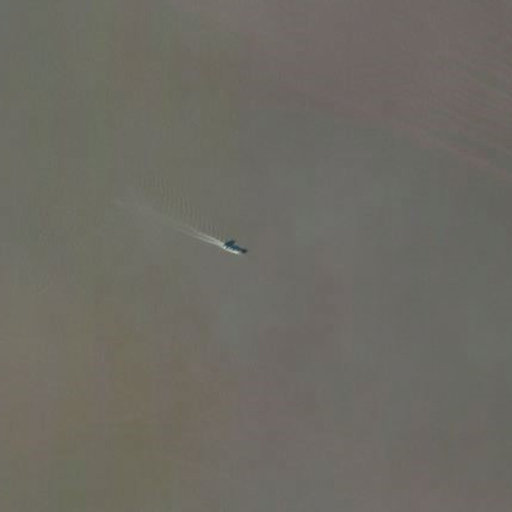ship: (217, 240, 249, 258)
